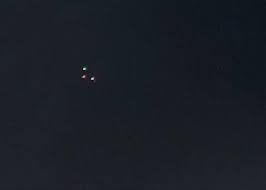Plane: (63, 58, 106, 87)
